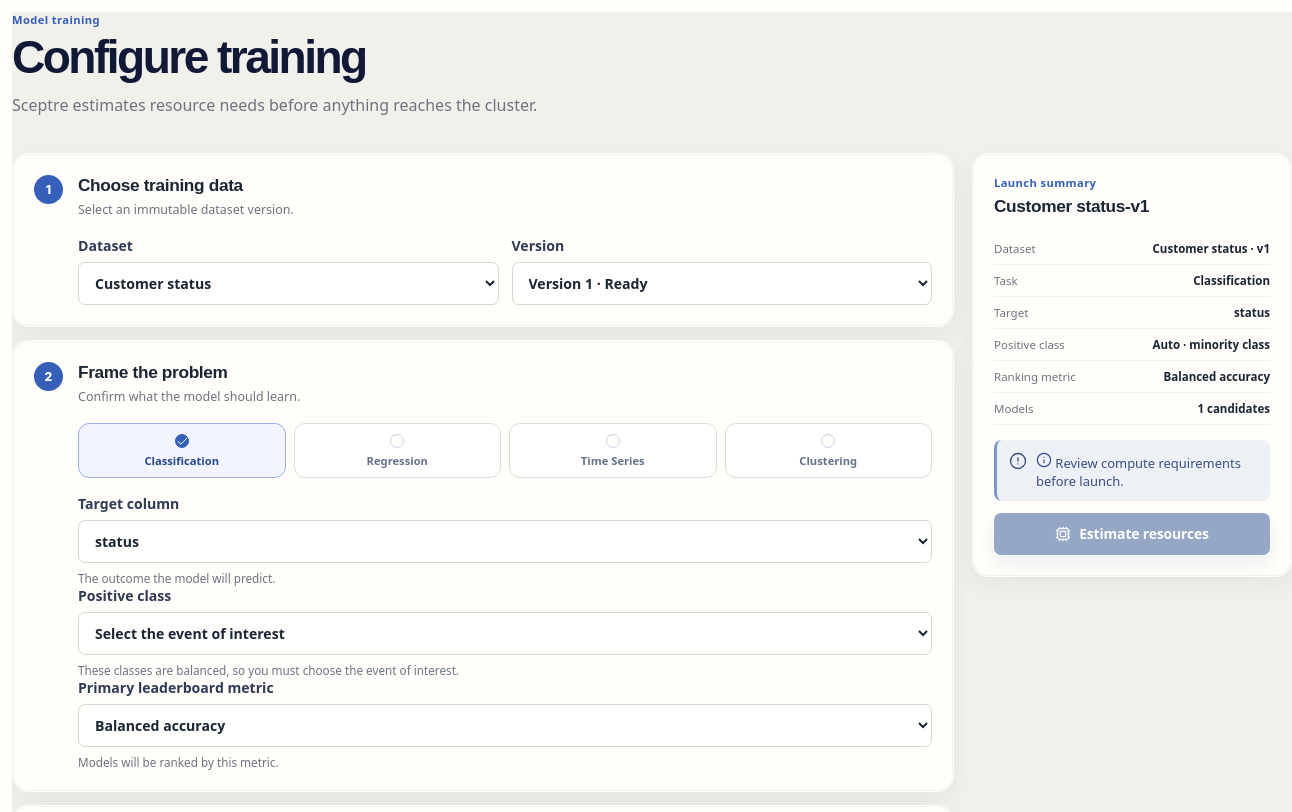
Test case: core workflow integrations › requires an explicit positive class when a binary target is balanced
Expected: the button "Estimate resources" is disabled, x1=994 y1=512 x2=1270 y2=554
Select "Attrited Customer · 50 rows" in the dropdown labelled "Positive class": (505, 634) x1=78 y1=612 x2=932 y2=655
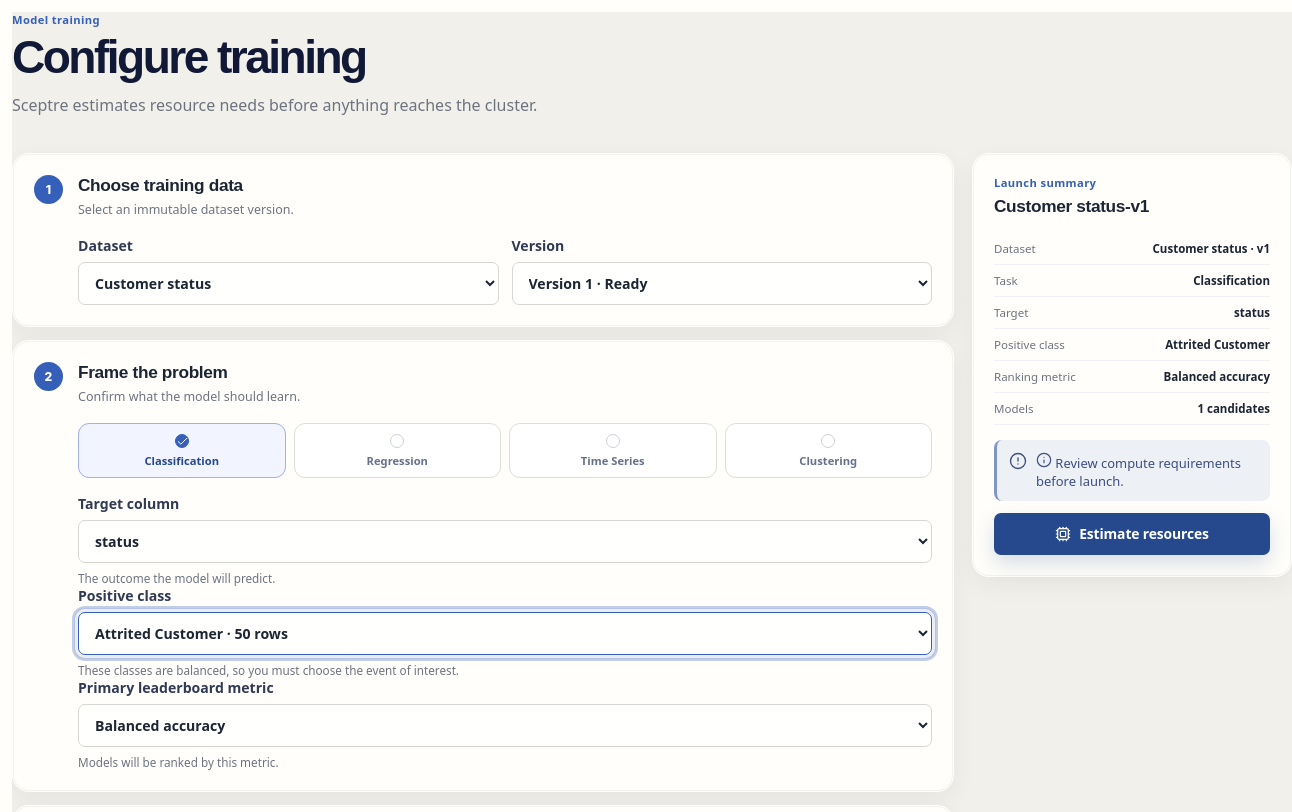
Result: the button "Estimate resources" is enabled at x1=994 y1=512 x2=1270 y2=554
